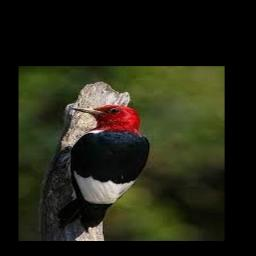Woodpecker: (58, 105, 153, 231)
